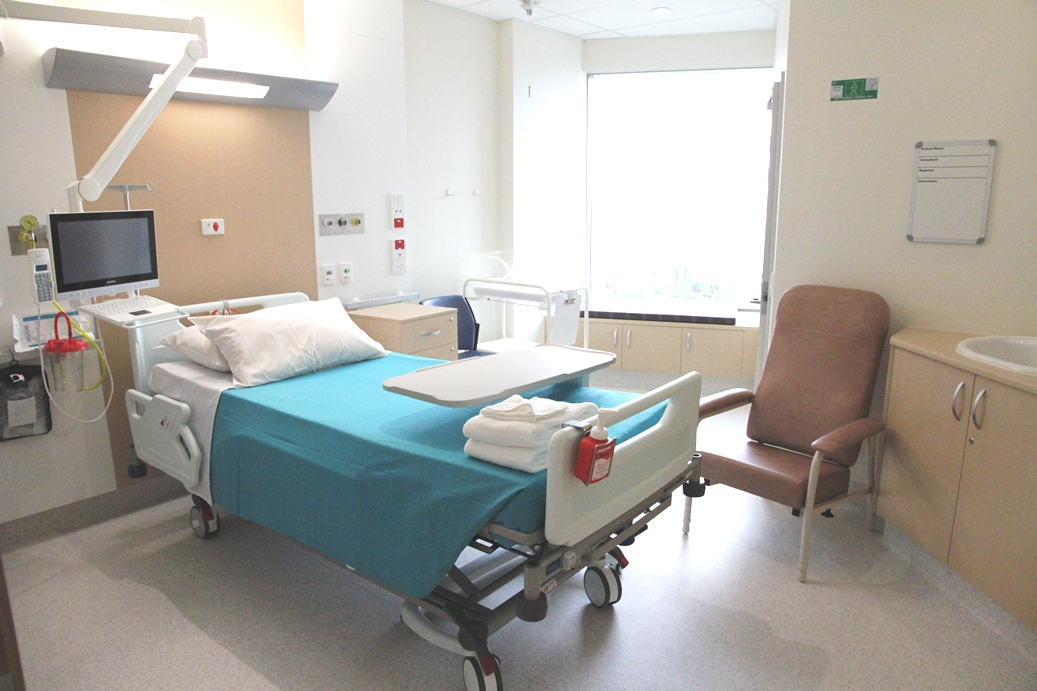bedside table: (381, 345, 620, 401)
hospital bed: (127, 319, 722, 543)
